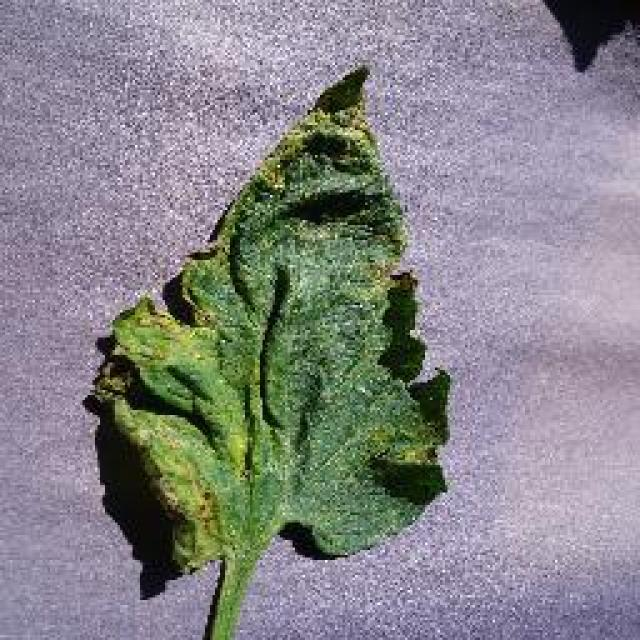Tomato target spot leaf: (96, 66, 452, 579)
